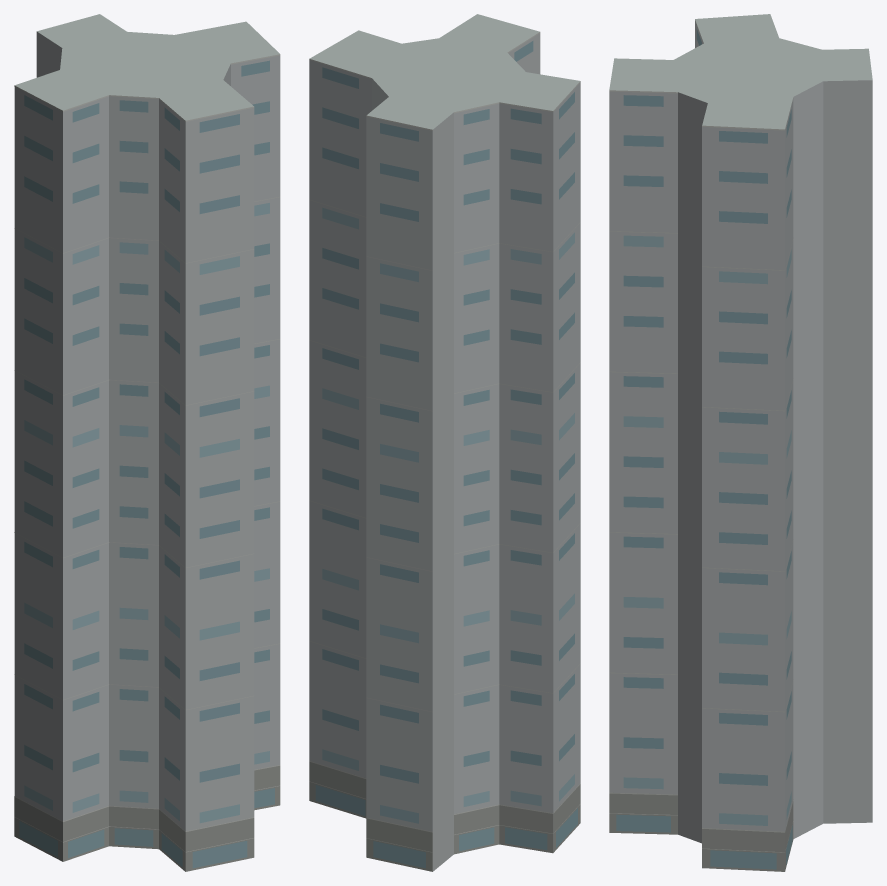
File: residential-d53b2afb-9cb5-40ba-a15d-fb41ace01b89.glb
3 renders of one model, left to right at view 1: azimuth 30°, elevation 25°; view 2: azimuth 150°, elevation 25°; view 3: azimuth 270°, elevation 25°, orthographic.
Parts seen in each view (by area): view 1: residential-d53b2afb-9cb5-40ba-a15d-fb41ace01b89.tmp; view 2: residential-d53b2afb-9cb5-40ba-a15d-fb41ace01b89.tmp; view 3: residential-d53b2afb-9cb5-40ba-a15d-fb41ace01b89.tmp.
Boxes of the visible parts, x1,y1,x2,y2 form: residential-d53b2afb-9cb5-40ba-a15d-fb41ace01b89.tmp: [14, 14, 280, 871]; residential-d53b2afb-9cb5-40ba-a15d-fb41ace01b89.tmp: [309, 14, 580, 871]; residential-d53b2afb-9cb5-40ba-a15d-fb41ace01b89.tmp: [609, 14, 872, 871].
Size of the model in its own units: 49.04 by 147 by 47.31.
